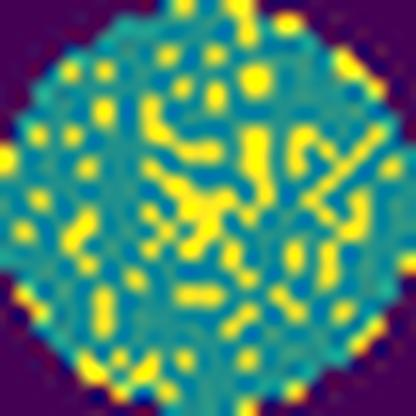Center: (138, 94, 276, 289)
